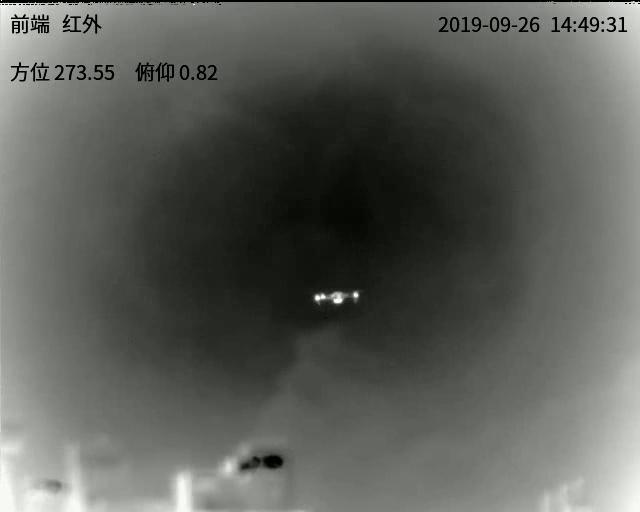DRONE: (312, 290, 361, 306)
